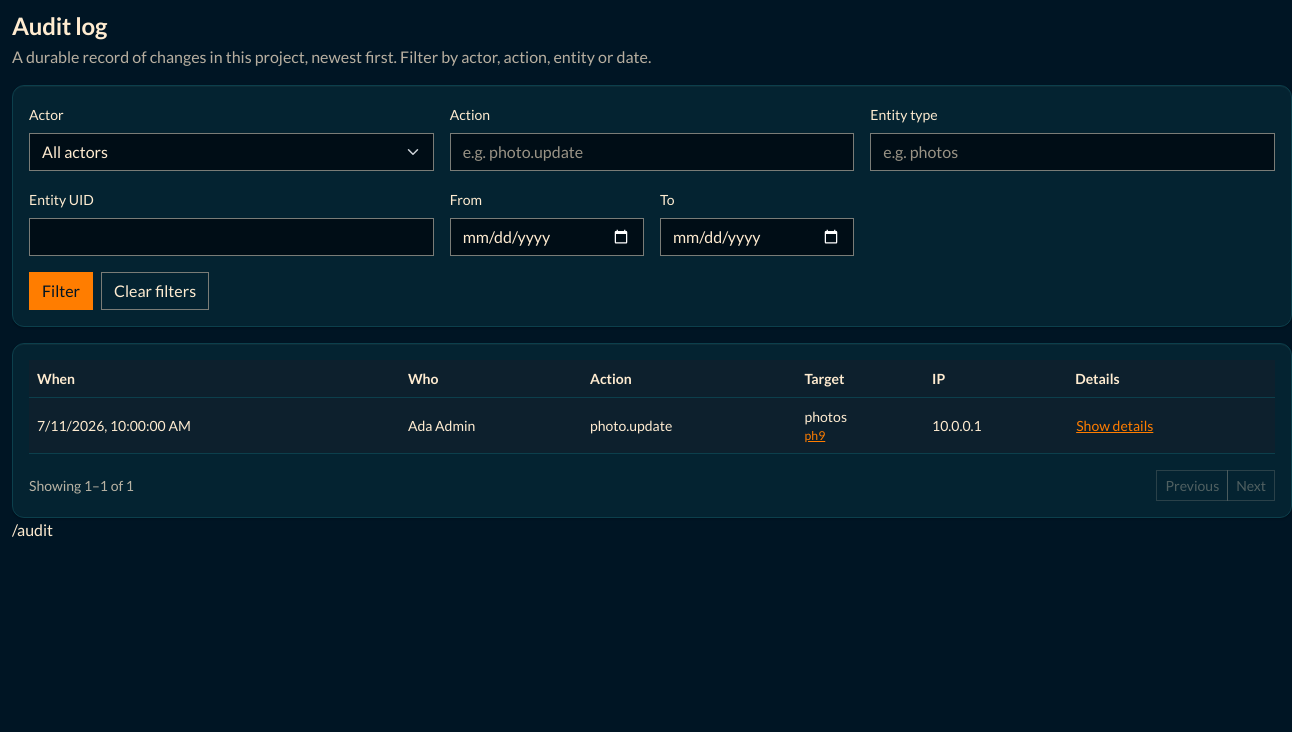
Test: AuditPage › applies a filter to the request params and reflects it in the URL
Expected: the table is shown, x1=29 y1=360 x2=1275 y2=454
In the field labelled "Action": (652, 152) x1=450 y1=133 x2=854 y2=171, type "photo.delete"
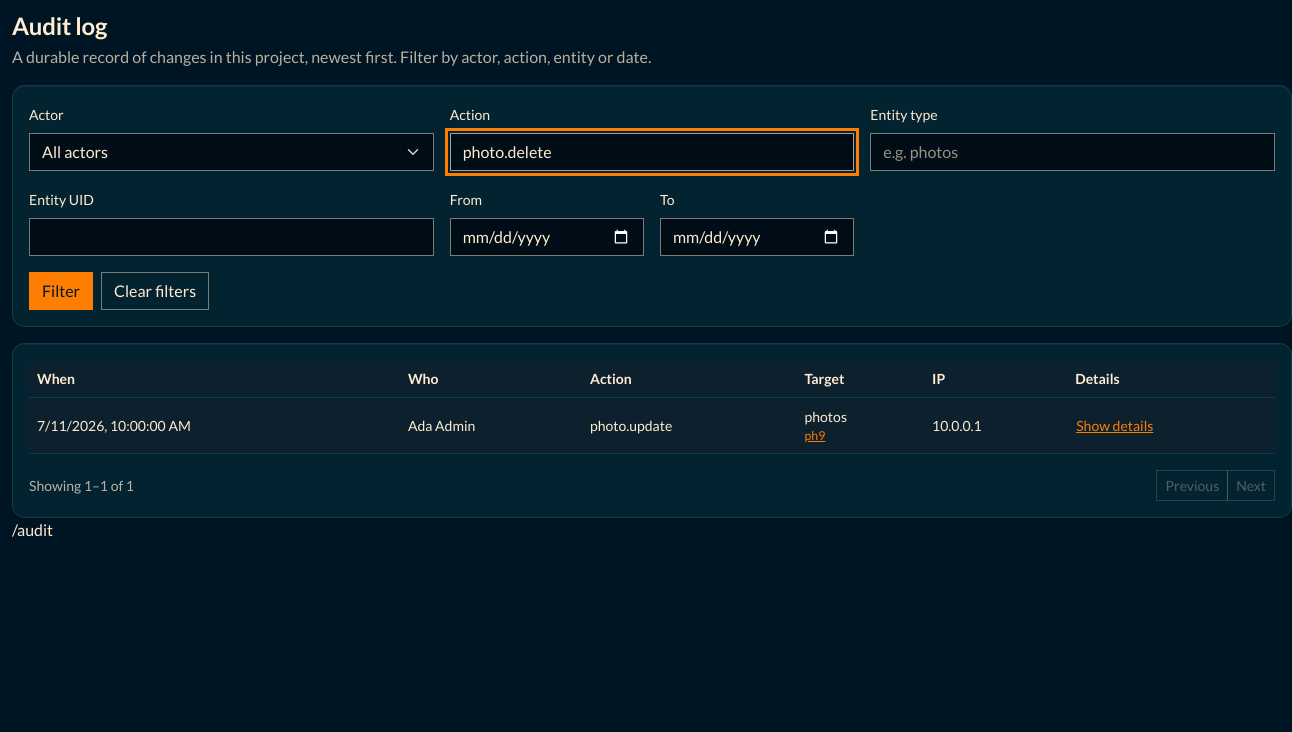
Click the button "Filter": (61, 291) x1=29 y1=272 x2=93 y2=310
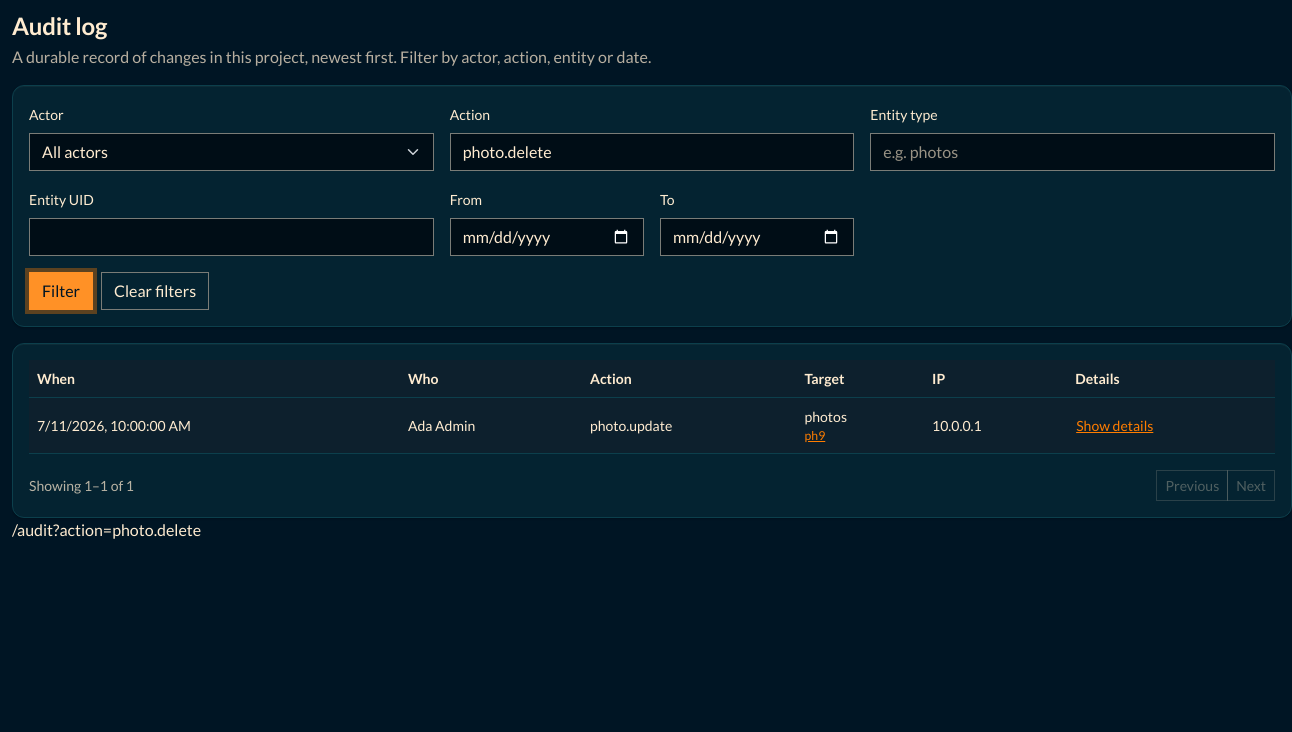
Expected: the text with test id "location" shows "action=photo.delete", x1=12 y1=520 x2=201 y2=539
